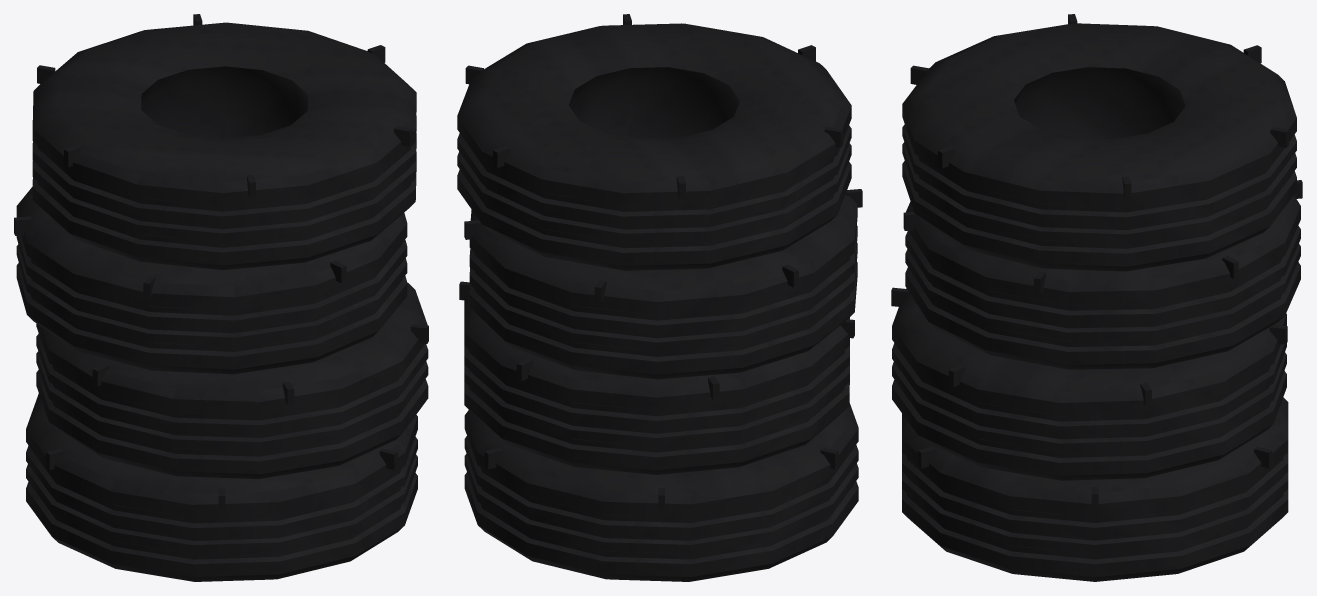
Rendered from pilha-de-pneus-4.glb.
3 views of the same model, side by side, from view 1: azimuth 30°, elevation 25°; view 2: azimuth 150°, elevation 25°; view 3: azimuth 270°, elevation 25° (orthographic).
Parts seen in each view (by area): view 1: pneu-3, pneu-1, pneu-2, pneu-0; view 2: pneu-3, pneu-0, pneu-2, pneu-1; view 3: pneu-3, pneu-1, pneu-2, pneu-0.
Part boxes in pixels (left/top/right/bottom): pneu-3: left=32, top=22, right=416, bottom=269; pneu-1: left=36, top=282, right=428, bottom=478; pneu-2: left=16, top=187, right=407, bottom=374; pneu-0: left=26, top=393, right=417, bottom=581; pneu-3: left=457, top=23, right=851, bottom=270; pneu-0: left=464, top=403, right=858, bottom=581; pneu-2: left=469, top=194, right=857, bottom=379; pneu-1: left=464, top=292, right=849, bottom=474; pneu-3: left=902, top=23, right=1296, bottom=271; pneu-1: left=892, top=288, right=1286, bottom=480; pneu-2: left=905, top=195, right=1300, bottom=369; pneu-0: left=902, top=397, right=1288, bottom=581.
Size of the model in its own units: 0.7134 by 0.8 by 0.717.
1 material, 1 textured.
